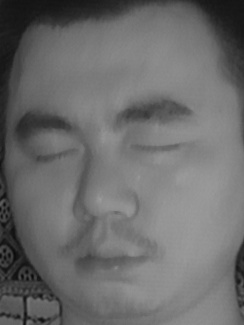blink: (129, 126, 185, 167), (29, 137, 79, 171)
mouth: (66, 226, 158, 286)
